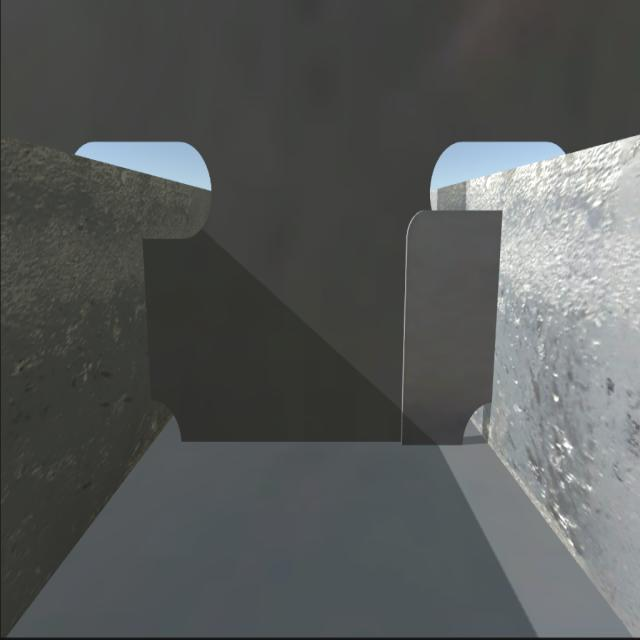fillet_hole: (448, 400, 501, 454), (146, 406, 184, 450)
fillet_yong_jeop_jang: (177, 435, 464, 460)
longi_yong_jeop_jang: (136, 240, 168, 403), (486, 218, 502, 418)
plate_CP05: (398, 204, 496, 438)
